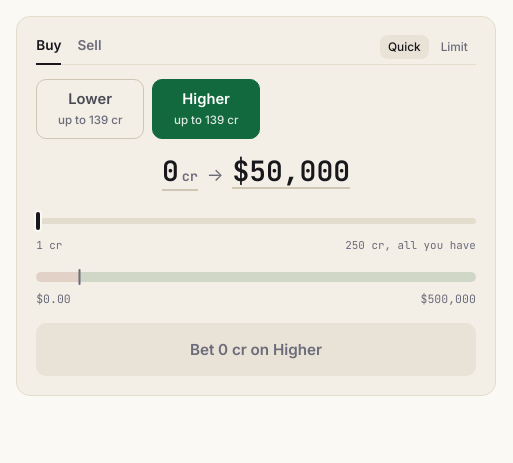
selling at a price › quick selling is unchanged by the sell limit
Click the button "Sell".
click(90, 50)  # box [78,35,102,65]
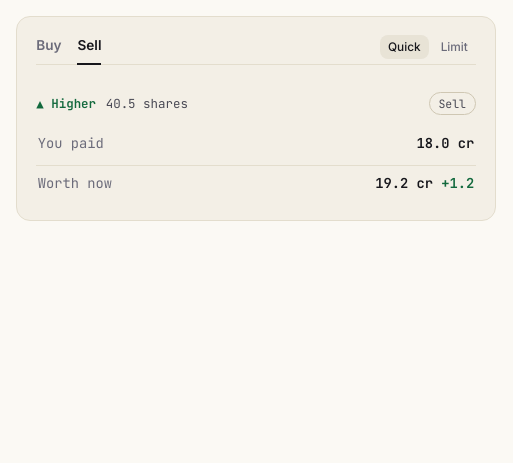
Click the button "Sell" in the row of "shares".
click(452, 104)  # box [429,92,476,115]
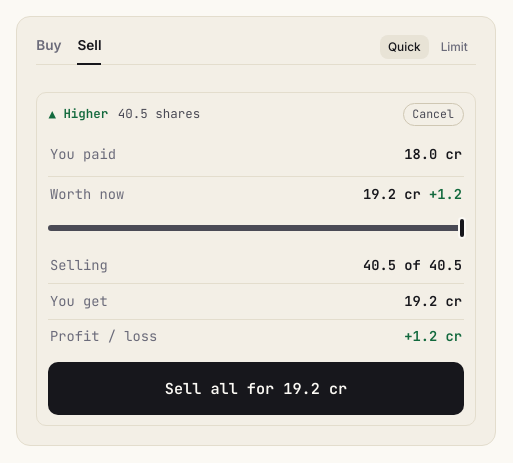
Check: the button "Sell all for 19.2 cr" is shown, box [48,362,464,415]
